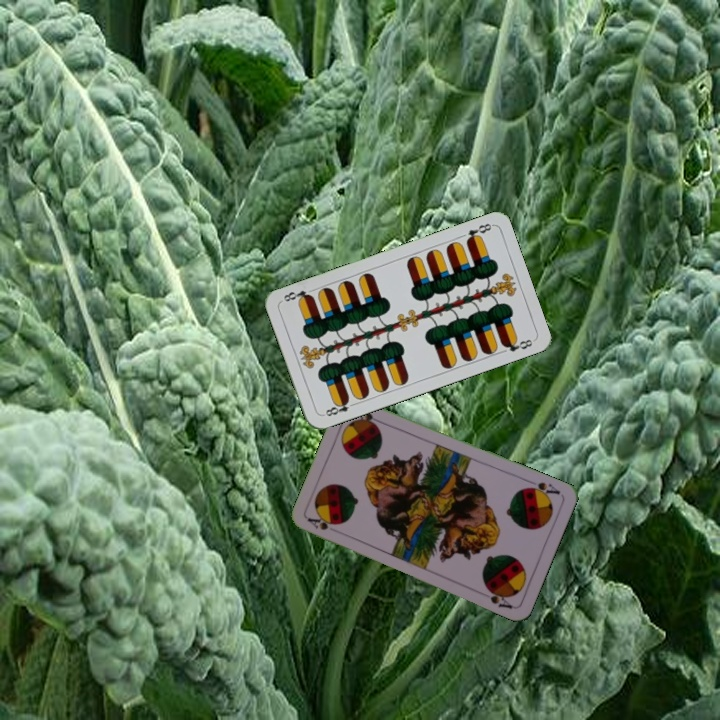E8: (318, 395, 358, 419), (462, 219, 495, 245)
SA: (522, 476, 563, 500), (304, 514, 338, 533)
